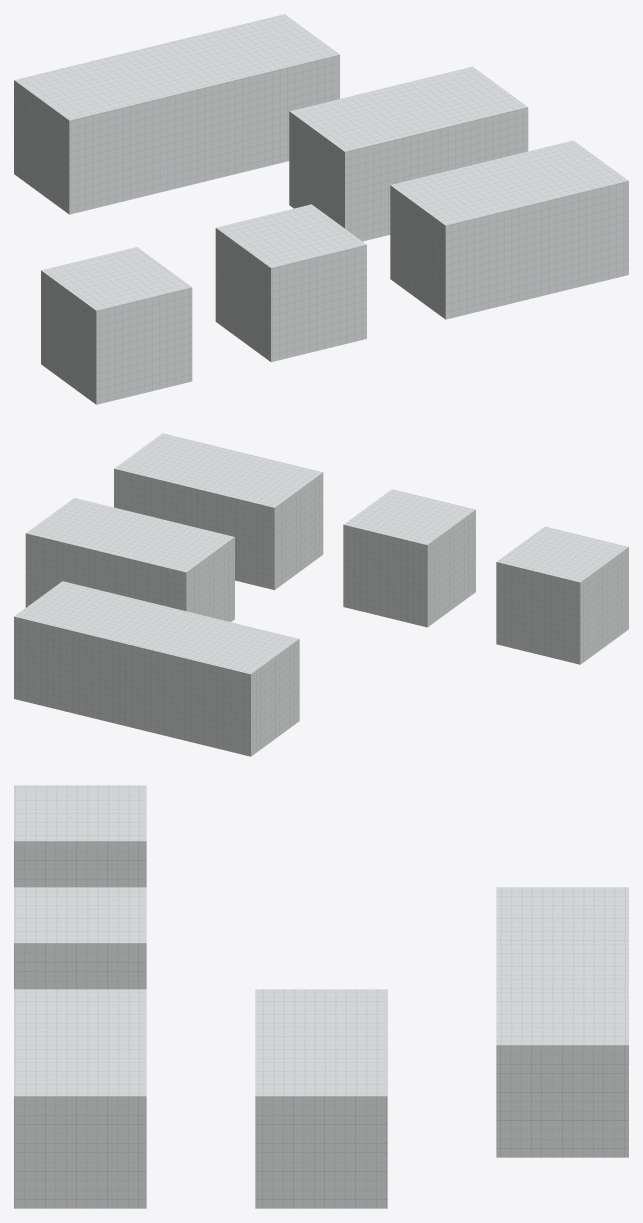
File: level37_walls_2_2.obj
3 renders of one model, top to bottom at view 1: azimuth 30°, elevation 25°; view 2: azimuth 150°, elevation 25°; view 3: azimuth 270°, elevation 25°, orthographic. The views are drawn at different scales.
Size of the model in its own units: 21.35 by 3.6 by 17.85.
Materials: 1 (1 with a texture image).
